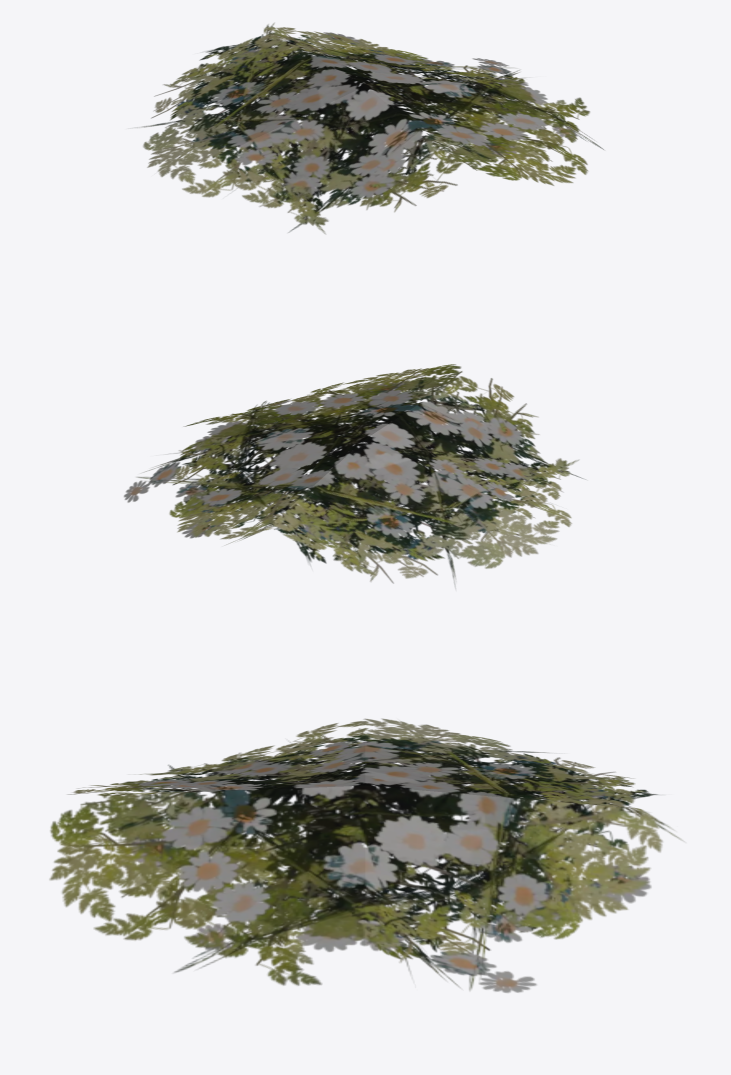
Rendered from Flowers.glb.
The picture shows the model from 3 angles, top to bottom: view 1: azimuth 30°, elevation 25°; view 2: azimuth 150°, elevation 25°; view 3: azimuth 270°, elevation 25°; orthographic projection. The views are drawn at different scales.
Parts seen in each view (by area): view 1: Cube; view 2: Cube; view 3: Cube.
Part boxes in pixels (x1,y1,x2,y2): Cube: (137,23,603,233); Cube: (123,364,585,587); Cube: (49,718,684,992).
Size of the model in its own units: 1.68 by 0.3331 by 1.68.
Materials: 1 (1 with a texture image).
